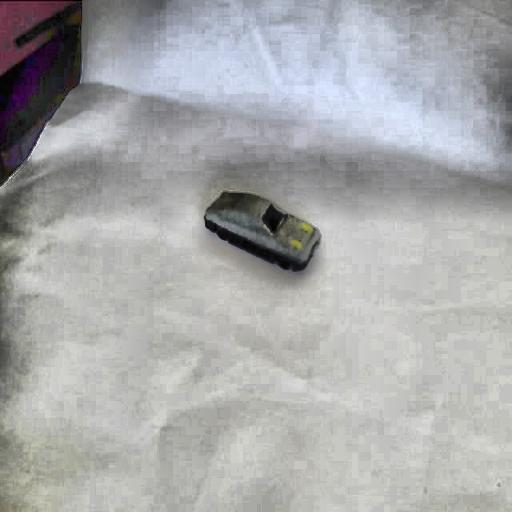normal_car: (201, 184, 323, 274)
